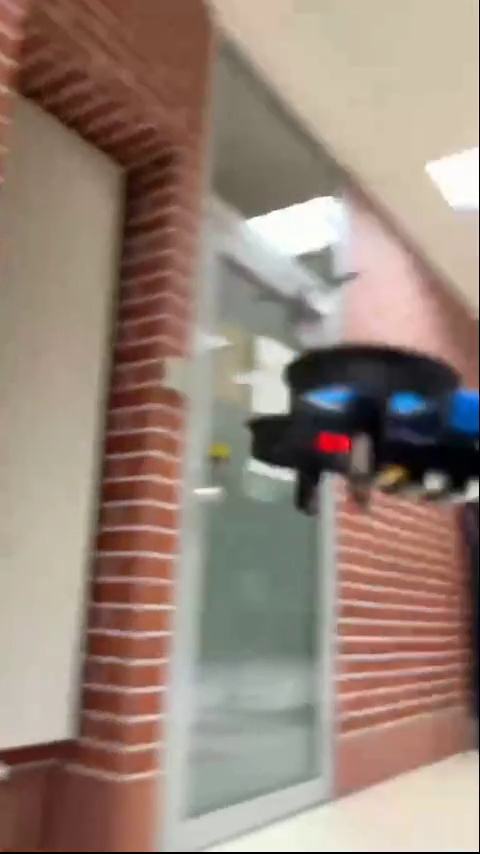drone: (250, 344, 480, 521)
